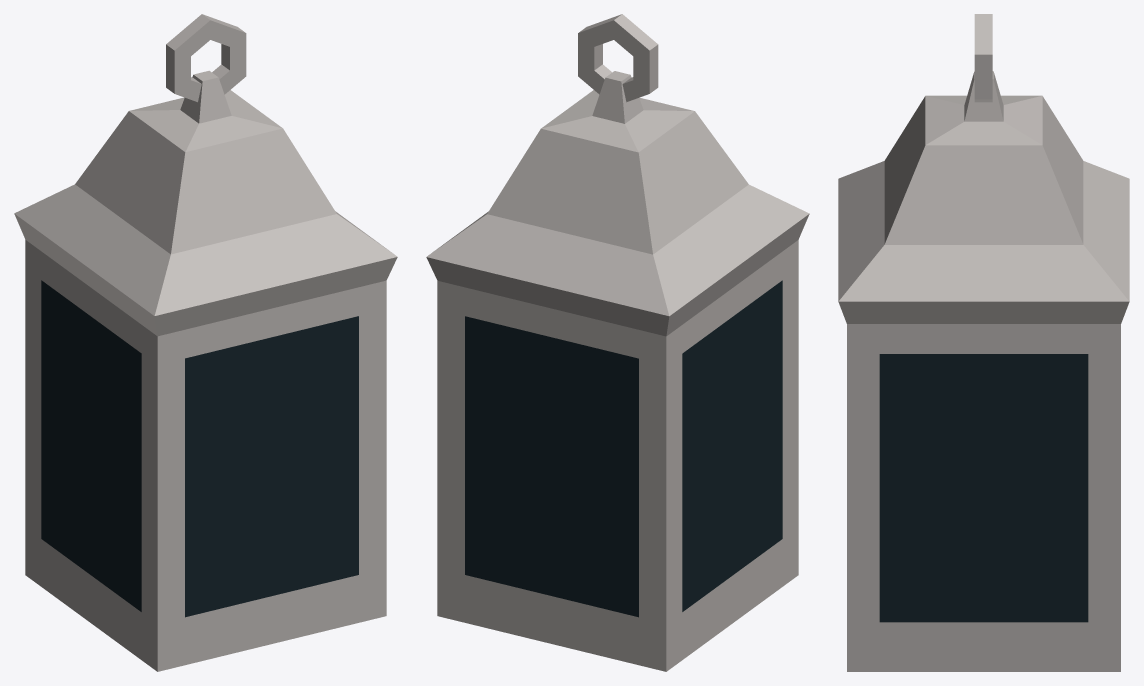
File: lantern.glb
The picture shows the model from 3 angles, left to right: view 1: azimuth 30°, elevation 25°; view 2: azimuth 150°, elevation 25°; view 3: azimuth 270°, elevation 25°; orthographic projection. The views are drawn at different scales.
Visible parts, largest first — view 1: lantern; view 2: lantern; view 3: lantern.
Part boxes in pixels (x1=…): lantern: x1=14, y1=14, x2=397, y2=671; lantern: x1=426, y1=14, x2=809, y2=671; lantern: x1=838, y1=14, x2=1129, y2=671.
Size of the model in its own units: 0.2124 by 0.4828 by 0.2124.
1 material, 1 textured.
